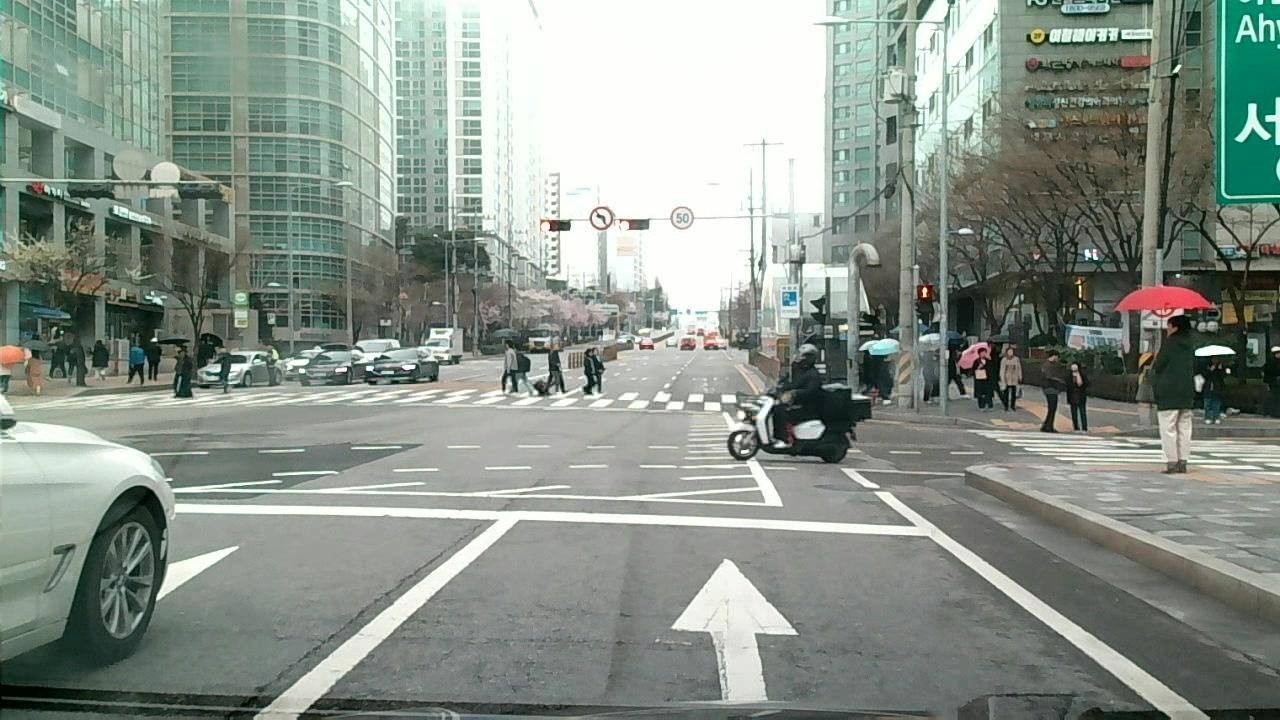hcrack: (429, 632, 685, 651)
vcrack: (214, 588, 396, 716), (394, 521, 483, 588), (501, 478, 544, 512)
